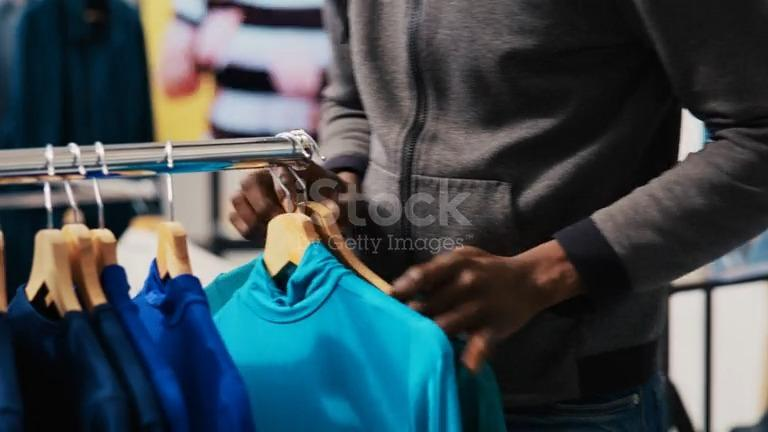Shoplifting: (166, 1, 768, 432)
